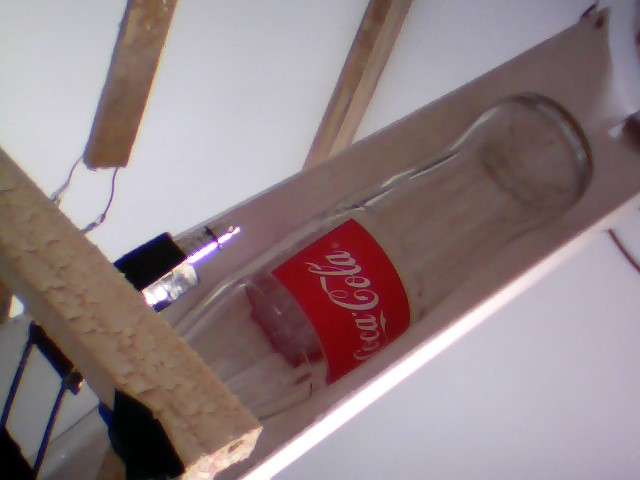vidrio: (171, 83, 600, 424)
